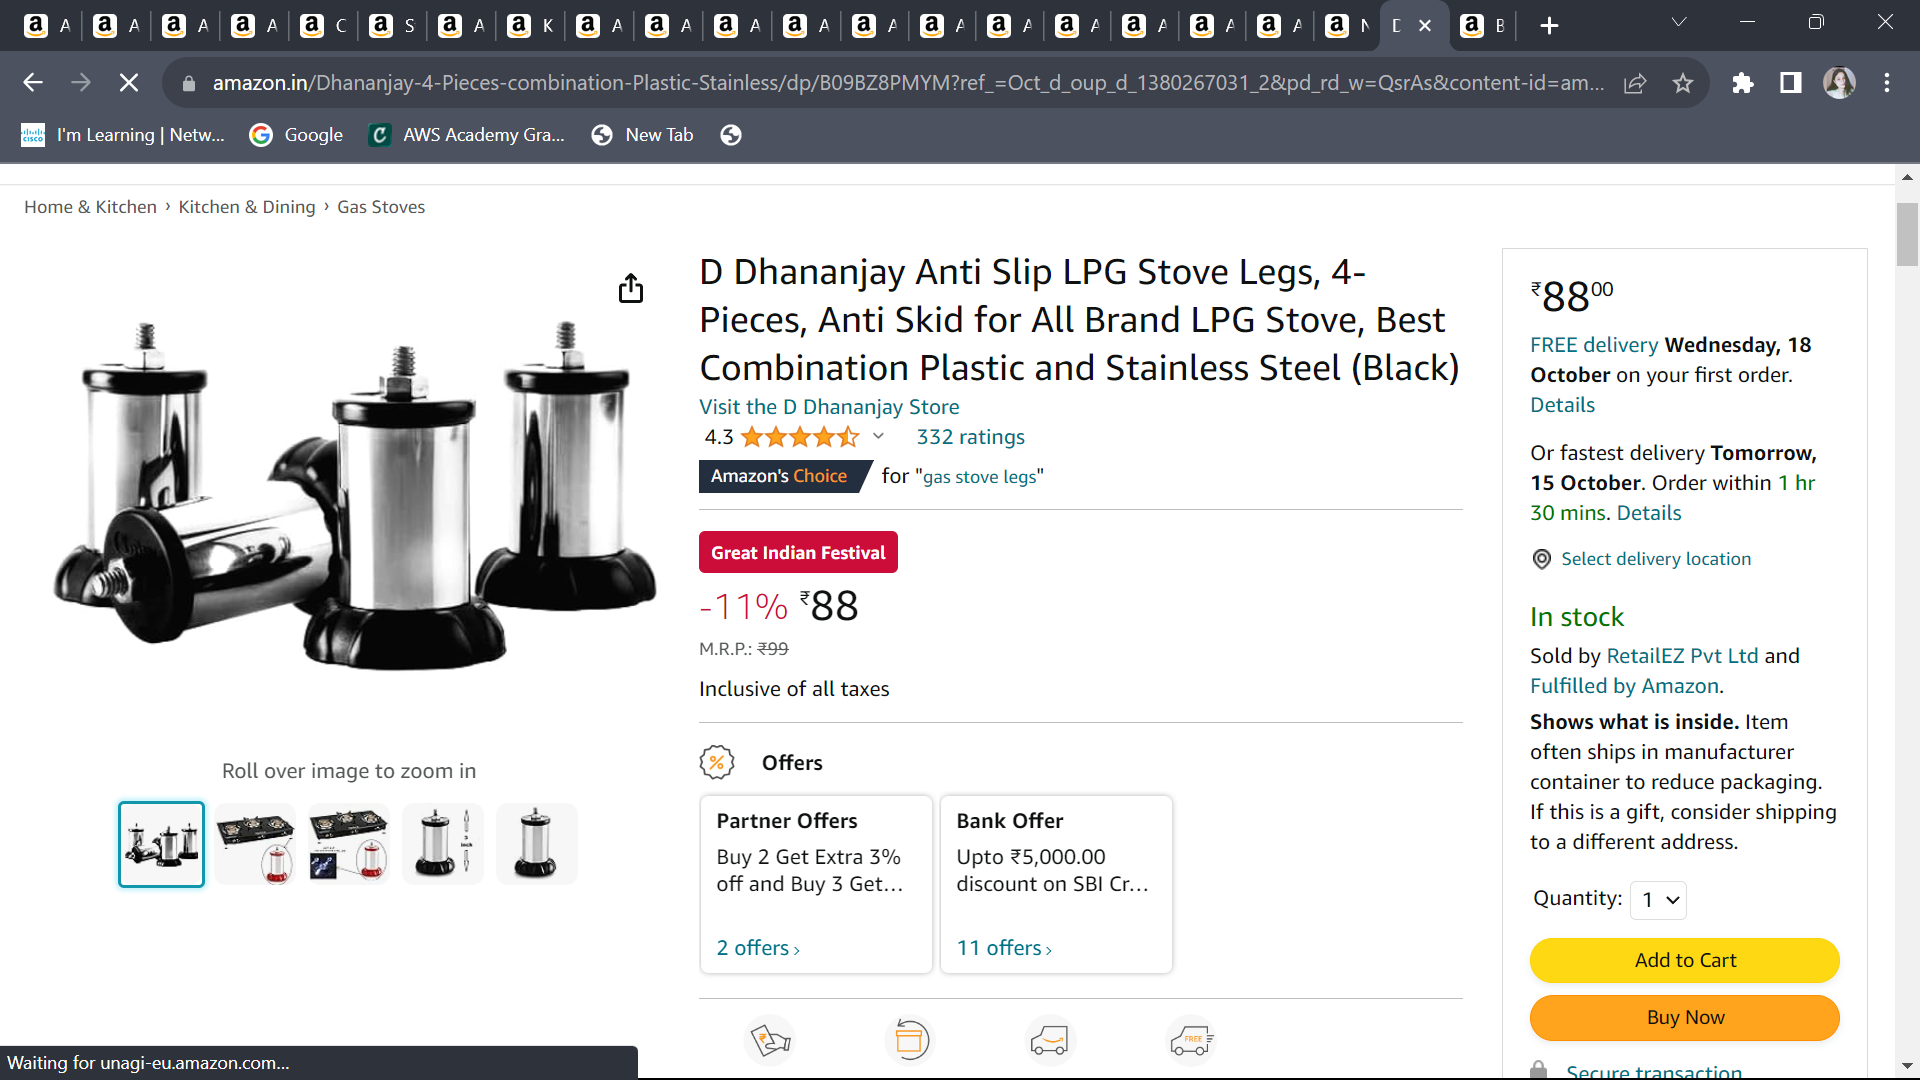Image: (21, 251, 659, 692)
Paragraph: (657, 723, 1207, 980), (680, 233, 1484, 388), (1520, 642, 1851, 857), (1526, 938, 1875, 1058), (1511, 427, 1851, 517), (696, 392, 1042, 460), (1509, 316, 1851, 382), (1495, 522, 1762, 579), (692, 570, 938, 630), (1514, 257, 1684, 340), (1509, 872, 1720, 926), (699, 675, 919, 708), (1499, 607, 1679, 645), (680, 628, 824, 663), (1514, 388, 1625, 421)
